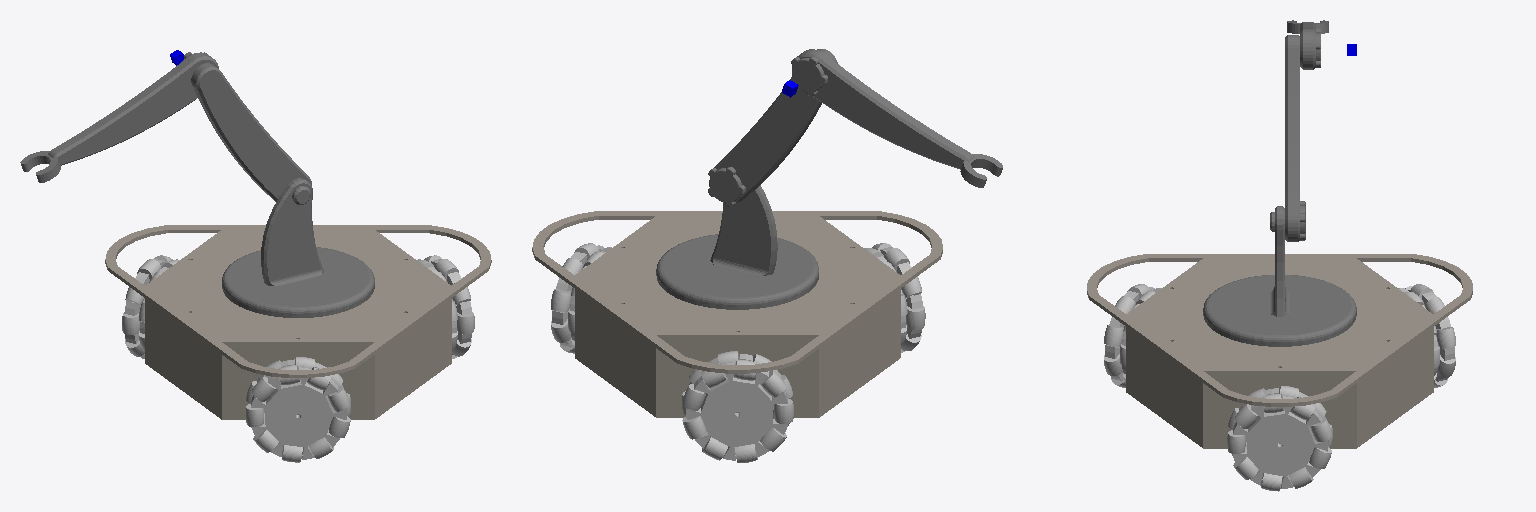
URDF robot description (robot_kin):
<?xml version="1.0" encoding="utf-8"?>
<!-- This URDF was automatically created by SolidWorks to URDF Exporter! Originally created by [author] ([email redacted]) 
     Commit Version: 1.6.0-4-g7f85cfe  Build Version: 1.6.7995.38578
     For more information, please see http://wiki.ros.org/sw_urdf_exporter -->
<robot name="robot_kin">
  <link name="base_link">
    <inertial>
      <origin xyz="-0.0514950390834328 0.00372680362943543 -0.0212713777766178" rpy="0 0 0" />
      <mass value="5.546524151294" />
      <inertia ixx="0.0390256274086559" ixy="7.53990510164341E-17" ixz="-9.49819895659914E-18" iyy="0.0390256274084877" iyz="-4.52445032425781E-14" izz="0.0727431794136434" />
    </inertial>
    <visual>
      <origin xyz="0 0 0" rpy="0 0 0" />
      <geometry>
        <mesh filename="package://robot_kin/meshes/base_link.STL" />
      </geometry>
      <material name="">
        <color rgba="0.647058823529412 0.619607843137255 0.588235294117647 1" />
      </material>
    </visual>
    <collision>
      <origin xyz="0 0 0" rpy="0 0 0" />
      <geometry>
        <mesh filename="package://robot_kin/meshes/base_link.STL" />
      </geometry>
    </collision>
  </link>
  <link name="omni_1">
    <inertial>
      <origin xyz="2.10248485288389E-15 -4.64905891561784E-16 -0.0150000000000003" rpy="0 0 0" />
      <mass value="0.208733977688544" />
      <inertia ixx="5.75297014634535E-05" ixy="-3.89635155736978E-20" ixz="5.02608940799584E-19" iyy="5.75297014634539E-05" iyz="-1.7427007015891E-19" izz="9.13704714530288E-05" />
    </inertial>
    <visual>
      <origin xyz="0 0 0" rpy="0 0 0" />
      <geometry>
        <mesh filename="package://robot_kin/meshes/omni_1.STL" />
      </geometry>
      <material name="">
        <color rgba="0.752941176470588 0.752941176470588 0.752941176470588 1" />
      </material>
    </visual>
    <collision>
      <origin xyz="0 0 0" rpy="0 0 0" />
      <geometry>
        <mesh filename="package://robot_kin/meshes/omni_1.STL" />
      </geometry>
    </collision>
  </link>
  <joint name="joint_omni_1" type="continuous">
    <origin xyz="-0.136496944367027 -0.143500815062323 -0.0472051656727379" rpy="-1.57079632679489 -1.18691023115661 2.61799387799149" />
    <parent link="base_link" />
    <child link="omni_1" />
    <axis xyz="0 0 1" />
    <dynamics damping="0.1" friction="0.1" />
  </joint>
  <link name="omni_2">
    <inertial>
      <origin xyz="2.51881848711832E-15 -2.0122792321331E-16 -0.0150000000000004" rpy="0 0 0" />
      <mass value="0.208733977688543" />
      <inertia ixx="5.75297014634536E-05" ixy="1.35525271560688E-20" ixz="5.37279608401087E-19" iyy="5.75297014634537E-05" iyz="-3.87797460613561E-19" izz="9.13704714530288E-05" />
    </inertial>
    <visual>
      <origin xyz="0 0 0" rpy="0 0 0" />
      <geometry>
        <mesh filename="package://robot_kin/meshes/omni_2.STL" />
      </geometry>
      <material name="">
        <color rgba="0.752941176470588 0.752941176470588 0.752941176470588 1" />
      </material>
    </visual>
    <collision>
      <origin xyz="0 0 0" rpy="0 0 0" />
      <geometry>
        <mesh filename="package://robot_kin/meshes/omni_2.STL" />
      </geometry>
    </collision>
  </link>
  <joint name="joint_omni_2" type="continuous">
    <origin xyz="-0.136496944367024 0.150954422321192 -0.0472051656727389" rpy="-1.5707963267949 0.532099877009558 0.523598775598294" />
    <parent link="base_link" />
    <child link="omni_2" />
    <axis xyz="0 0 1" />
    <dynamics damping="0.1" friction="0.1" />
  </joint>
  <link name="omni_3">
    <inertial>
      <origin xyz="2.04697370165263E-15 -4.57966997657877E-16 -0.0150000000000004" rpy="0 0 0" />
      <mass value="0.208733977688544" />
      <inertia ixx="5.75297014634535E-05" ixy="-5.59041745187838E-20" ixz="5.01350143462744E-19" iyy="5.75297014634538E-05" iyz="-2.67520268147213E-19" izz="9.13704714530288E-05" />
    </inertial>
    <visual>
      <origin xyz="0 0 0" rpy="0 0 0" />
      <geometry>
        <mesh filename="package://robot_kin/meshes/omni_3.STL" />
      </geometry>
      <material name="">
        <color rgba="0.752941176470588 0.752941176470588 0.752941176470588 1" />
      </material>
    </visual>
    <collision>
      <origin xyz="0 0 0" rpy="0 0 0" />
      <geometry>
        <mesh filename="package://robot_kin/meshes/omni_3.STL" />
      </geometry>
    </collision>
  </link>
  <joint name="joint_omni_3" type="continuous">
    <origin xyz="0.118508771484474 0.00372680362943003 -0.0472051656727379" rpy="-1.5707963267949 0.854297069502276 -1.57079632679491" />
    <parent link="base_link" />
    <child link="omni_3" />
    <axis xyz="0 0 1" />
    <dynamics damping="0.1" friction="0.1" />
  </joint>
  <link name="link_1">
    <inertial>
      <origin xyz="-0.00197622872489094 -4.49272203594166E-05 0.00633251365290859" rpy="0 0 0" />
      <mass value="0.214783356206923" />
      <inertia ixx="0.000365790344438595" ixy="1.90730142866856E-08" ixz="1.46206270755554E-05" iyy="0.000380010525298812" iyz="8.07220952141231E-07" izz="0.000475014888435784" />
    </inertial>
    <visual>
      <origin xyz="0 0 0" rpy="0 0 0" />
      <geometry>
        <mesh filename="package://robot_kin/meshes/link_1.STL" />
      </geometry>
      <material name="">
        <color rgba="0.498039215686275 0.498039215686275 0.498039215686275 1" />
      </material>
    </visual>
    <collision>
      <origin xyz="0 0 0" rpy="0 0 0" />
      <geometry>
        <mesh filename="package://robot_kin/meshes/link_1.STL" />
      </geometry>
    </collision>
  </link>
  <joint name="joint_link_1" type="fixed">
    <origin xyz="-0.0514950390831942 0.00372680362943392 0.0242948343272624" rpy="0 0 0" />
    <parent link="base_link" />
    <child link="link_1" />
    <axis xyz="0 0 0" />
  </joint>
  <link name="link_2">
    <inertial>
      <origin xyz="0.0734879371385836 -0.00334262643425878 0.00783116598654759" rpy="0 0 0" />
      <mass value="0.108863827343016" />
      <inertia ixx="1.52983726752256E-05" ixy="3.25169315859978E-06" ixz="2.96831173668244E-06" iyy="0.000349212764999917" iyz="-1.20507616431351E-07" izz="0.000359580214053703" />
    </inertial>
    <visual>
      <origin xyz="0 0 0" rpy="0 0 0" />
      <geometry>
        <mesh filename="package://robot_kin/meshes/link_2.STL" />
      </geometry>
      <material name="">
        <color rgba="0.498039215686275 0.498039215686275 0.498039215686275 1" />
      </material>
    </visual>
    <collision>
      <origin xyz="0 0 0" rpy="0 0 0" />
      <geometry>
        <mesh filename="package://robot_kin/meshes/link_2.STL" />
      </geometry>
    </collision>
  </link>
  <joint name="joint_link_2" type="revolute">
    <origin xyz="0 0.005 0.09" rpy="1.5708 -0.97083 3.1416" />
    <parent link="link_1" />
    <child link="link_2" />
    <axis xyz="0 0 1" />
    <limit lower="0" upper="0" effort="0" velocity="0" />
    <dynamics damping="0.1" friction="0.1" />
  </joint>
  <link name="link_3">
    <inertial>
      <origin xyz="0.0679394800286911 -0.00254732956132153 0.00791117403147978" rpy="0 0 0" />
      <mass value="0.0922267153628876" />
      <inertia ixx="1.11543901229101E-05" ixy="3.03180485829024E-06" ixz="2.56993305226668E-06" iyy="0.00031313631090358" iyz="-1.19027339136059E-07" izz="0.000318250360418558" />
    </inertial>
    <visual>
      <origin xyz="0 0 0" rpy="0 0 0" />
      <geometry>
        <mesh filename="package://robot_kin/meshes/link_3.STL" />
      </geometry>
      <material name="">
        <color rgba="0.498039215686275 0.498039215686275 0.498039215686275 1" />
      </material>
    </visual>
    <collision>
      <origin xyz="0 0 0" rpy="0 0 0" />
      <geometry>
        <mesh filename="package://robot_kin/meshes/link_3.STL" />
      </geometry>
    </collision>
  </link>
  <joint name="joint_link_3" type="revolute">
    <origin xyz="0.17 0 0.015" rpy="0 0 -1.2916" />
    <parent link="link_2" />
    <child link="link_3" />
    <axis xyz="0 0 1" />
    <limit lower="0" upper="0" effort="0" velocity="0" />
    <dynamics damping="0.1" friction="0.1" />
  </joint>



  <!-- Camera Link -->
  <link name="camera_link">
    <inertial>
      <origin xyz="0 0 0" rpy="0 0 0"/>
      <mass value="0.1"/>
      <inertia ixx="0.001" ixy="0" ixz="0" iyy="0.001" iyz="0" izz="0.001"/>
    </inertial>
    <visual>
      <origin xyz="0 0 0" rpy="0 0 0"/>
      <geometry>
        <box size="0.01 0.01 0.01" />
      </geometry>
      <material name="Blue">
        <color rgba="0 0 1 1"/>
      </material>
    </visual>
    <collision>
      <origin xyz="0 0 0" rpy="0 0 0"/>
      <geometry>
        <box size="0.05 0.05 0.05"/>
      </geometry>
    </collision>
  </link>

  <!-- Fixed Joint to attach Camera to Link 3 -->
  <joint name="camera_joint" type="fixed">
    <origin xyz="0 0 0.05" rpy="0 0 0"/>
    <parent link="link_3"/>
    <child link="camera_link"/>
  </joint>

  <!-- Gazebo Camera Sensor -->
  <gazebo reference="camera_link">
    <sensor type="camera" name="camera_sensor">
      <always_on>true</always_on>
      <update_rate>30</update_rate>
      <camera>
        <horizontal_fov>1.3962634</horizontal_fov>
        <image>
          <width>640</width>
          <height>480</height>
          <format>R8G8B8</format>
        </image>
        <clip>
          <near>0.1</near>
          <far>100</far>
        </clip>
      </camera>
      <plugin name="gazebo_ros_camera_controller" filename="libgazebo_ros_camera.so">
        <robotNamespace>/robot_kin</robotNamespace>
        <cameraName>camera</cameraName>
        <imageTopicName>image_raw</imageTopicName>
        <cameraInfoTopicName>camera_info</cameraInfoTopicName>
        <frameName>camera_link</frameName>
        <updateRate>30</updateRate>
      </plugin>
    </sensor>
  </gazebo>


  <!-- IMU Sensor Link
  <link name="imu_link">
    <inertial>
      <origin xyz="0 0 0" rpy="0 0 0"/>
      <mass value="0.01"/>
      <inertia ixx="0.001" ixy="0" ixz="0" iyy="0.001" iyz="0" izz="0.001"/>
    </inertial>
    <visual>
      <origin xyz="0 0 0" rpy="0 0 0"/>
      <geometry>
        <box size="0.02 0.02 0.02"/>
      </geometry>
      <material name="Green">
        <color rgba="0 1 0 1"/>
      </material>
    </visual>
    <collision>
      <origin xyz="0 0 0" rpy="0 0 0"/>
      <geometry>
        <box size="0.02 0.02 0.02"/>
      </geometry>
    </collision>
  </link>

  Fixed Joint to attach IMU to base_link (hoặc thay bằng link phù hợp)
  <joint name="imu_joint" type="fixed">
    <origin xyz="0 0 0.1" rpy="0 0 0"/>
    <parent link="base_link"/>
    <child link="imu_link"/>
  </joint>

  Gazebo IMU Sensor
  <gazebo reference="imu_link">
    <sensor type="imu" name="imu_sensor">
      <always_on>true</always_on>
      <update_rate>100</update_rate>
      <imu>
        <topic>imu/data</topic>
        <gaussian_noise>
          <mean>0.0</mean>
          <stddev>0.02</stddev>
        </gaussian_noise>
      </imu>
      <plugin name="gazebo_ros_imu_controller" filename="libgazebo_ros_imu.so">
        <robotNamespace>/robot_kin</robotNamespace>
        <bodyName>imu_link</bodyName>
        <topicName>imu/data</topicName>
        <frameName>imu_link</frameName>
      </plugin>
    </sensor>
  </gazebo> -->

</robot>

--- Render facts (derived) ---
The picture shows the robot from 3 angles, left to right: view 1: azimuth 30°, elevation 25°; view 2: azimuth 150°, elevation 25°; view 3: azimuth 270°, elevation 25°; orthographic projection.
Robot: robot_kin — 8 links, 7 joints (2 revolute, 3 continuous, 2 fixed); root link base_link; default pose: all joints at 0.
Visible links, largest first — view 1: base_link, link_1, omni_1, link_3, link_2, omni_2, omni_3; view 2: base_link, link_1, omni_2, link_3, link_2, omni_3, omni_1; view 3: base_link, link_1, omni_3, link_2, omni_2, omni_1, link_3.
Link boxes in pixels (x1=…): base_link: x1=105, y1=225, x2=491, y2=419; link_1: x1=222, y1=178, x2=374, y2=317; omni_1: x1=245, y1=357, x2=350, y2=462; link_3: x1=20, y1=52, x2=218, y2=182; link_2: x1=191, y1=63, x2=311, y2=201; omni_2: x1=122, y1=255, x2=179, y2=358; omni_3: x1=417, y1=255, x2=474, y2=358; base_link: x1=532, y1=211, x2=942, y2=417; link_1: x1=656, y1=185, x2=818, y2=309; omni_2: x1=682, y1=351, x2=793, y2=462; link_3: x1=790, y1=49, x2=1002, y2=187; link_2: x1=708, y1=49, x2=837, y2=206; omni_3: x1=551, y1=243, x2=611, y2=353; omni_1: x1=864, y1=243, x2=925, y2=352; base_link: x1=1087, y1=254, x2=1472, y2=448; link_1: x1=1203, y1=206, x2=1356, y2=346; omni_3: x1=1227, y1=386, x2=1332, y2=491; link_2: x1=1285, y1=35, x2=1305, y2=241; omni_2: x1=1398, y1=284, x2=1455, y2=387; omni_1: x1=1104, y1=284, x2=1161, y2=387; link_3: x1=1287, y1=20, x2=1328, y2=69.
Bounding box of the posed robot: 0.4943 × 0.3779 × 0.374 m (x, y, z).
Meshes: 7 distinct files referenced, 7 mesh visuals loaded (7 binary STL).